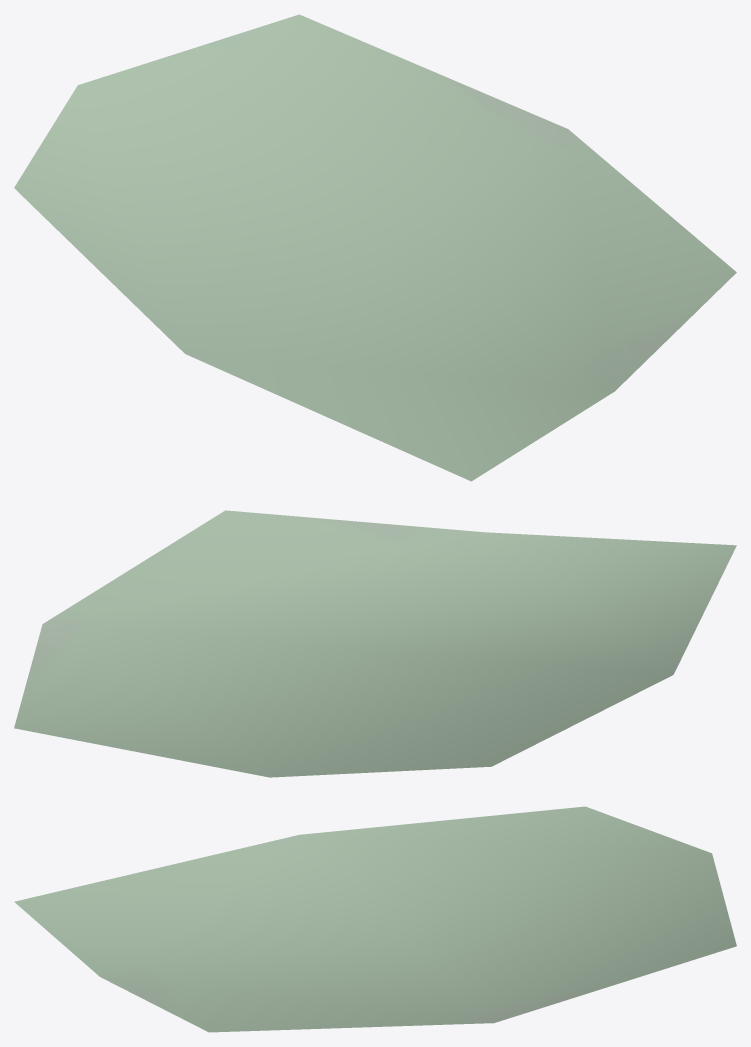
Rendered from TROLLHOLE02_HOLECAP47.fbx.
3 views of the same model, one above another, from view 1: azimuth 30°, elevation 25°; view 2: azimuth 150°, elevation 25°; view 3: azimuth 270°, elevation 25° (orthographic). The views are drawn at different scales.
Visible parts, largest first — view 1: TROLLHOLE02_HOLECAP47; view 2: TROLLHOLE02_HOLECAP47; view 3: TROLLHOLE02_HOLECAP47.
Boxes of the visible parts, left/top/right/bottom form: TROLLHOLE02_HOLECAP47: left=14, top=14, right=736, bottom=481; TROLLHOLE02_HOLECAP47: left=14, top=510, right=736, bottom=777; TROLLHOLE02_HOLECAP47: left=14, top=806, right=736, bottom=1032.
Bounding box in the file's own units: 20607 × 3035 × 31413.
Materials: 1 (1 with a texture image).
